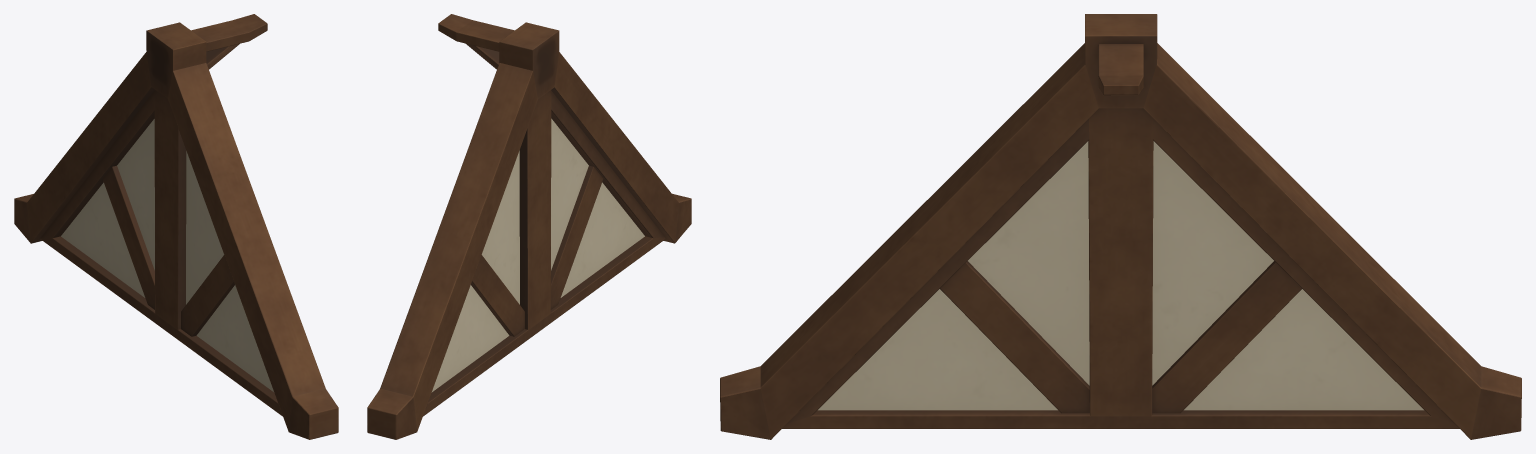
The model's file is BW_Cottage01_GableEndWide.fbx.
3 views of the same model, side by side, from view 1: azimuth 30°, elevation 25°; view 2: azimuth 150°, elevation 25°; view 3: azimuth 270°, elevation 25° (orthographic). The views are drawn at different scales.
Parts seen in each view (by area): view 1: BW_Cottage01_GableEndWide; view 2: BW_Cottage01_GableEndWide; view 3: BW_Cottage01_GableEndWide.
Boxes of the visible parts, left/top/right/bottom form: BW_Cottage01_GableEndWide: left=14, top=14, right=338, bottom=439; BW_Cottage01_GableEndWide: left=367, top=14, right=691, bottom=439; BW_Cottage01_GableEndWide: left=720, top=14, right=1521, bottom=439.
Size of the model in its own units: 0.8977 by 2.52 by 4.52.
